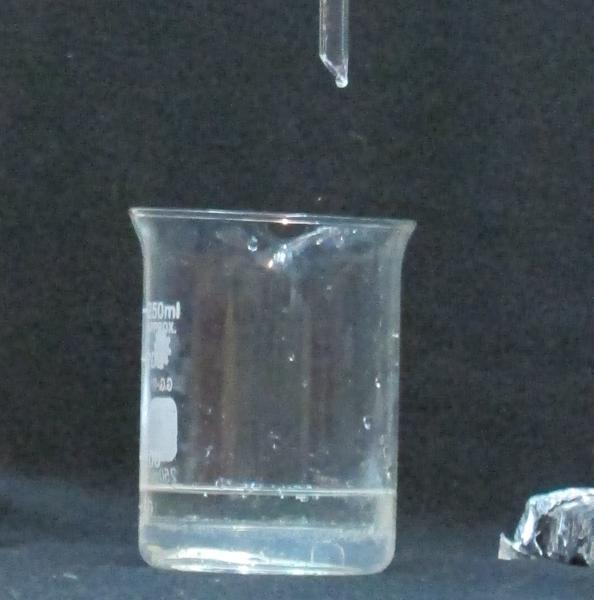Beaker: (117, 187, 419, 579)
